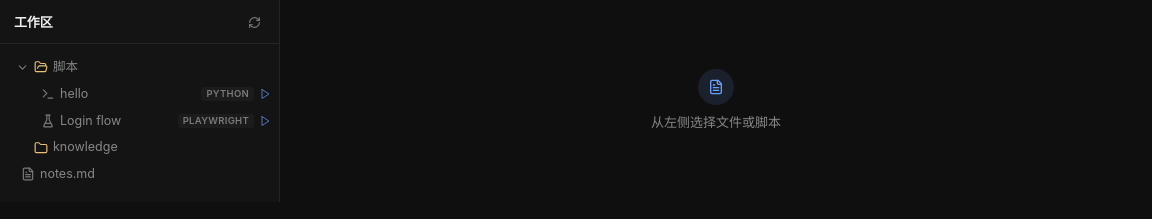
Scenario: WorkspacePage › opens a markdown file and renders it
What coordinates should you click on to do the following:
click the element with class "file-tree-row" showing "notes.md"
I would click on:
 (58, 174)
Its box is [21, 166, 95, 181].
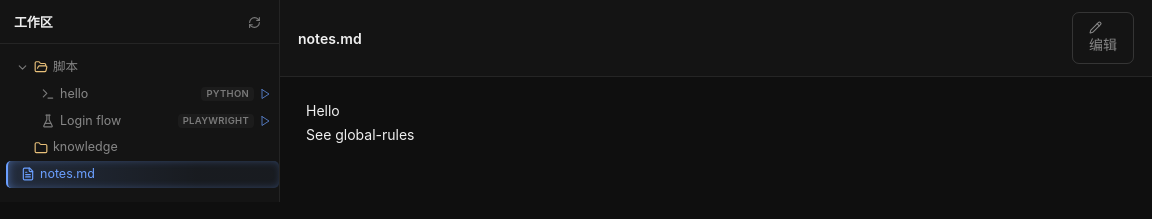
Check: the element with class "workspace-md-body" shows "Hello", box [306, 102, 340, 119]
